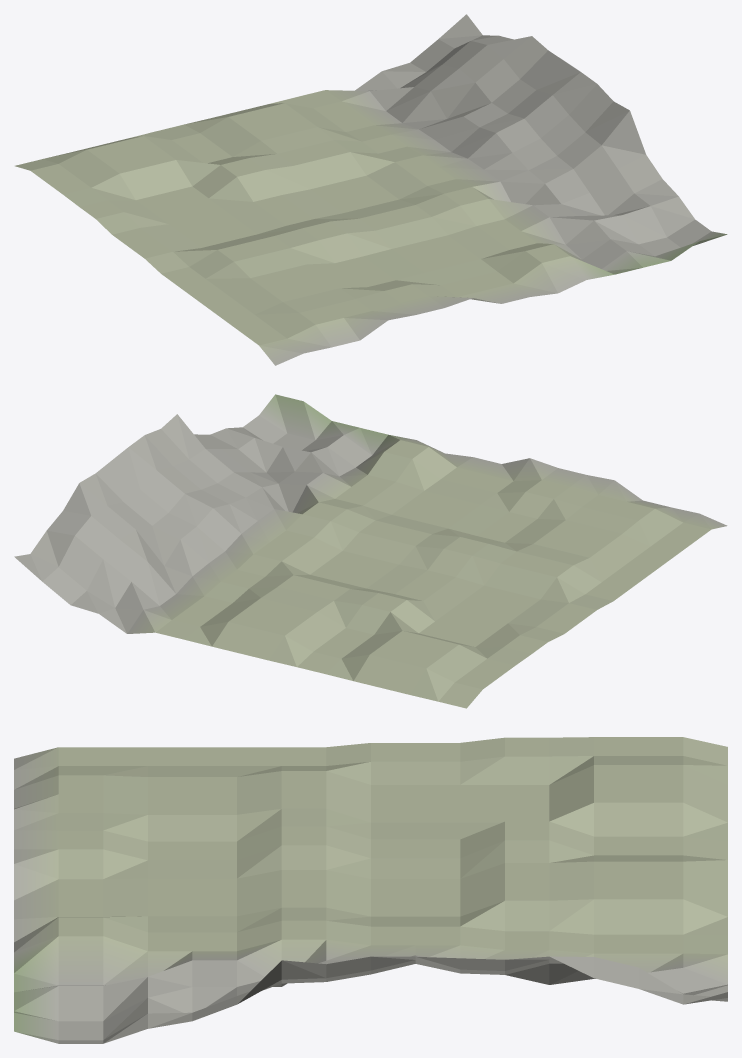
The picture shows the model from 3 angles, top to bottom: view 1: azimuth 30°, elevation 25°; view 2: azimuth 150°, elevation 25°; view 3: azimuth 270°, elevation 25°; orthographic projection. The views are drawn at different scales.
Size of the model in its own units: 32 by 5.23 by 32.
